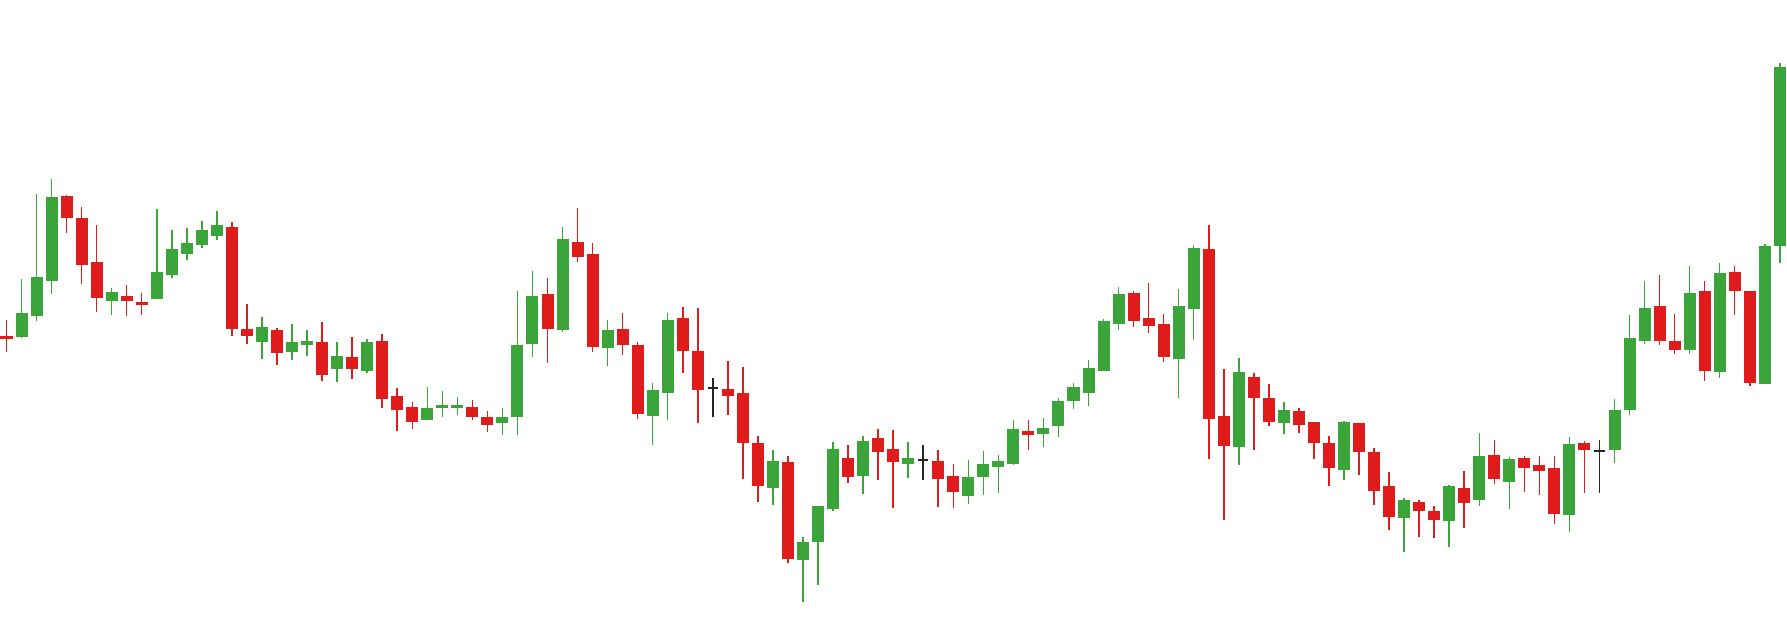sell: (1110, 226, 1218, 343)
